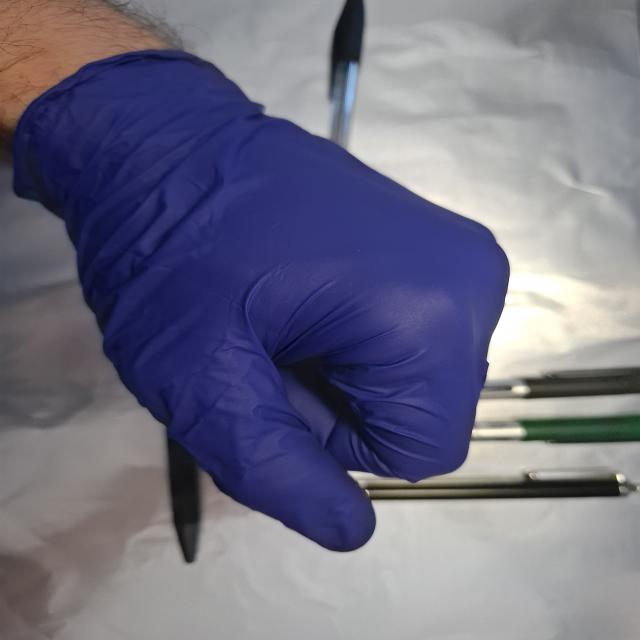glove_on: (7, 46, 514, 558)
